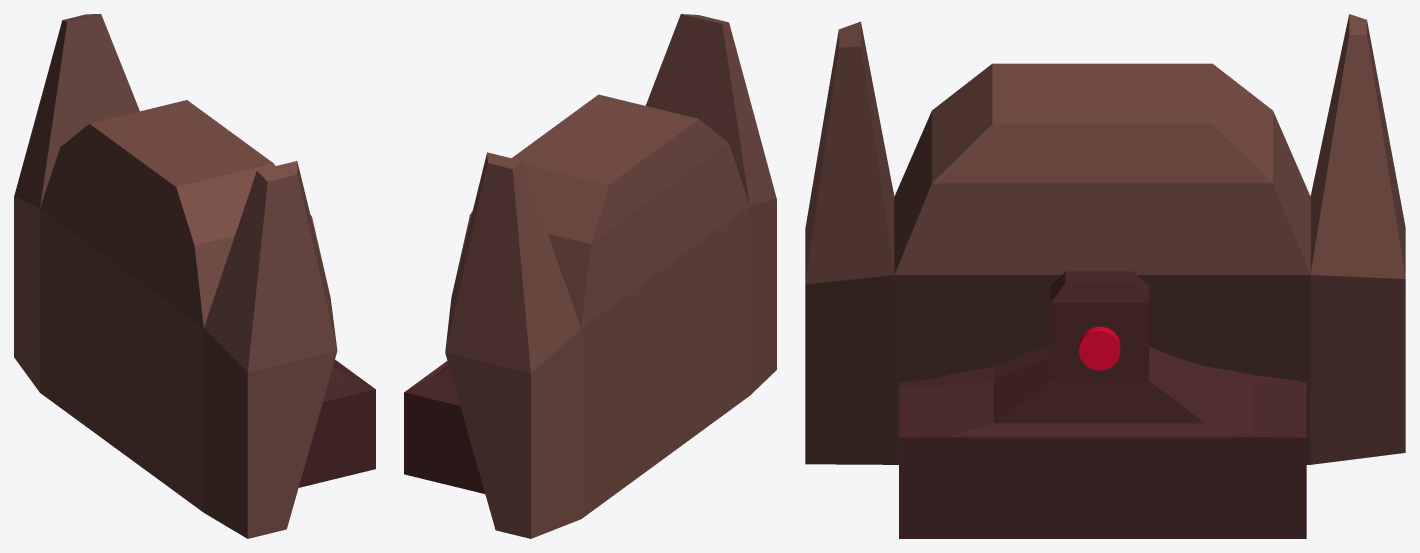
File: button.fbx
3 views of the same model, side by side, from view 1: azimuth 30°, elevation 25°; view 2: azimuth 150°, elevation 25°; view 3: azimuth 270°, elevation 25° (orthographic). The views are drawn at different scales.
Visible parts, largest first — view 1: Cube.001, Cube; view 2: Cube.001, Cube; view 3: Cube.001, Cube, Cylinder.
Boxes of the visible parts, x1,y1,x2,y2 form: Cube.001: [14, 14, 337, 538]; Cube: [298, 359, 375, 487]; Cube.001: [445, 14, 776, 538]; Cube: [404, 361, 484, 493]; Cube.001: [805, 14, 1405, 464]; Cube: [899, 271, 1306, 538]; Cylinder: [1079, 326, 1120, 370].
Size of the model in its own units: 228 by 442 by 538.
